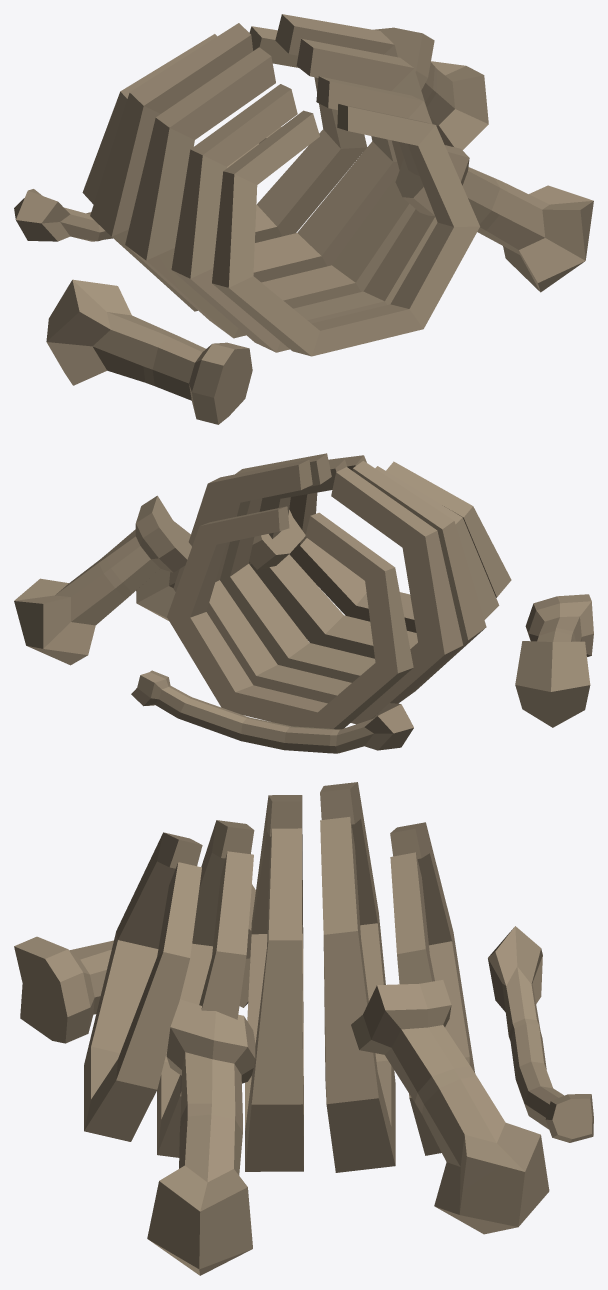
File: bones.glb
The picture shows the model from 3 angles, top to bottom: view 1: azimuth 30°, elevation 25°; view 2: azimuth 150°, elevation 25°; view 3: azimuth 270°, elevation 25°; orthographic projection. The views are drawn at different scales.
Visible parts, largest first — view 1: BonePile; view 2: BonePile; view 3: BonePile.
Part boxes in pixels (left/top/right/bottom): BonePile: left=14, top=14, right=593, bottom=424; BonePile: left=14, top=453, right=593, bottom=753; BonePile: left=14, top=782, right=593, bottom=1275.
Bounding box in the file's own units: 0.55 × 0.2745 × 0.4188.
